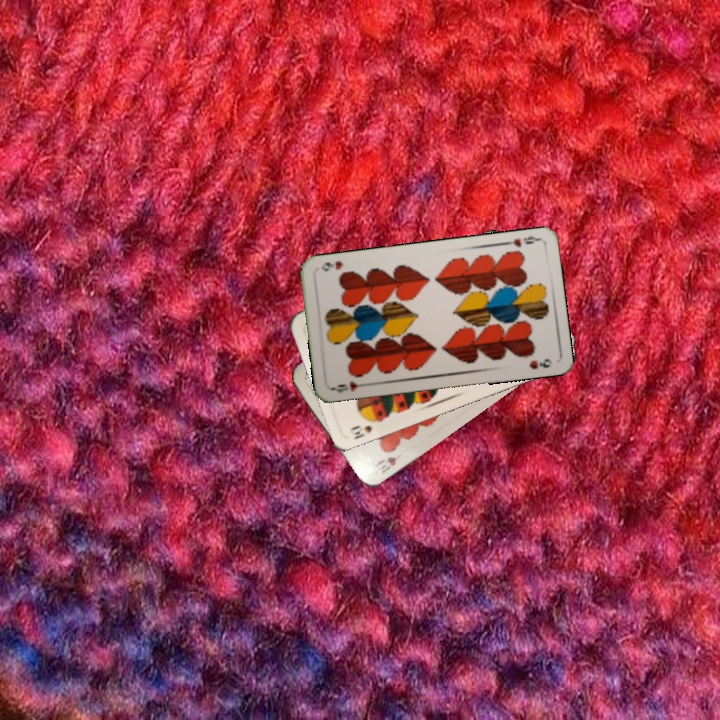H10: (371, 453, 399, 476)
H9: (329, 377, 370, 395), (501, 232, 542, 249)
S10: (345, 414, 383, 442)
